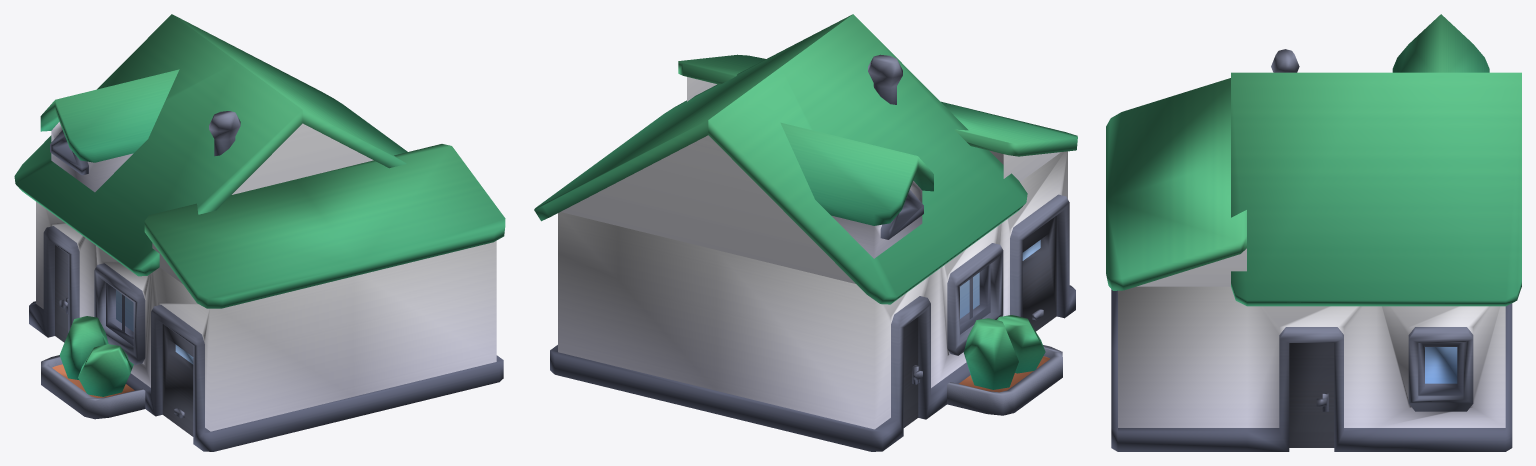
The model's file is n1_building-type-i_lev1.glb.
The picture shows the model from 3 angles, left to right: view 1: azimuth 30°, elevation 25°; view 2: azimuth 150°, elevation 25°; view 3: azimuth 270°, elevation 25°; orthographic projection. The views are drawn at different scales.
Visible parts, largest first — view 1: n1_building-type-i_lev1; view 2: n1_building-type-i_lev1; view 3: n1_building-type-i_lev1.
Part boxes in pixels (x1=…): n1_building-type-i_lev1: x1=14, y1=14, x2=505, y2=451; n1_building-type-i_lev1: x1=534, y1=14, x2=1077, y2=451; n1_building-type-i_lev1: x1=1106, y1=14, x2=1521, y2=451.
Size of the model in its own units: 7.97 by 5.55 by 7.03.
Materials: 1 (1 with a texture image).
